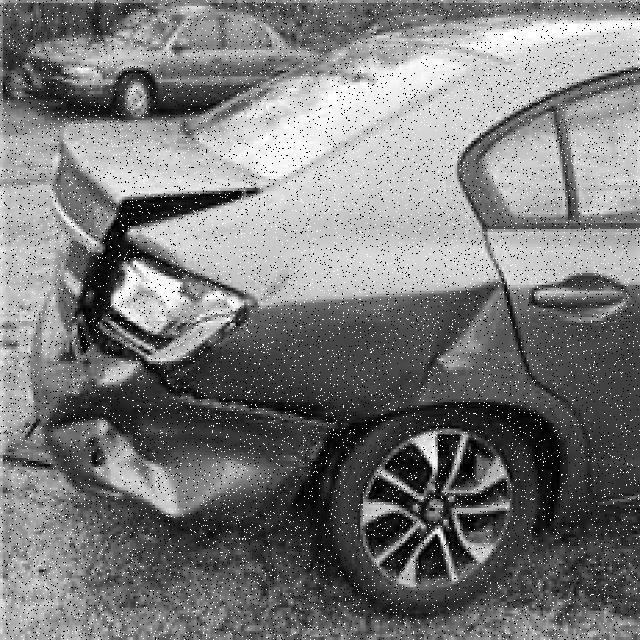quaterpanel-dent: (295, 270, 530, 472)
rear-bumper-dent: (3, 352, 355, 554)
